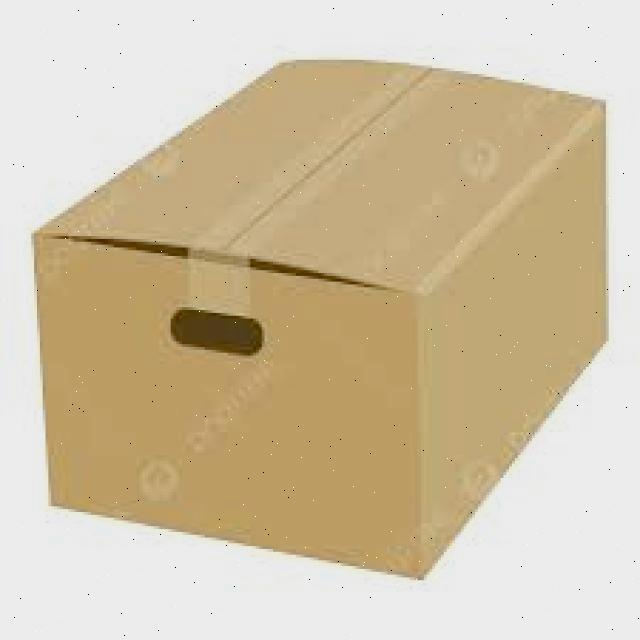box: (29, 57, 608, 581)
normal_hole: (171, 308, 264, 357)
